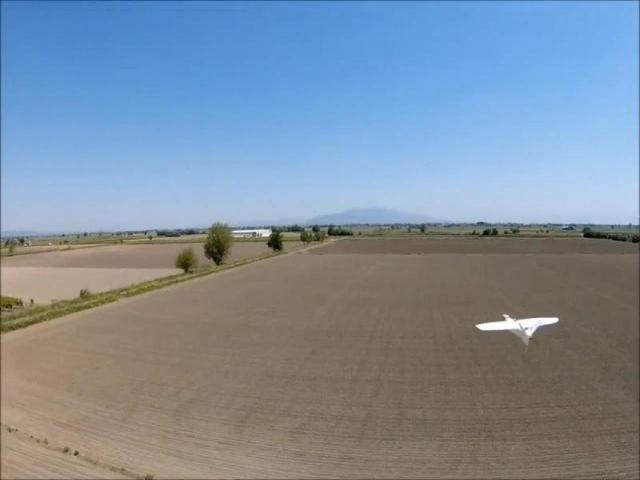hedef: (472, 308, 562, 354)
